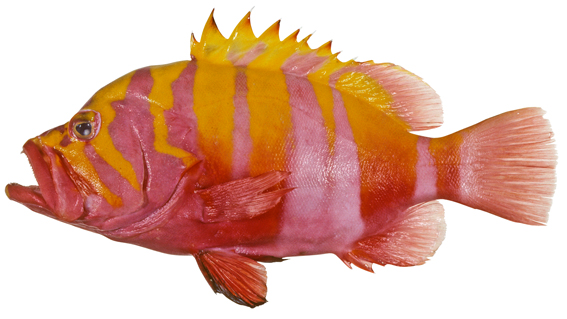fish: (5, 8, 557, 308)
